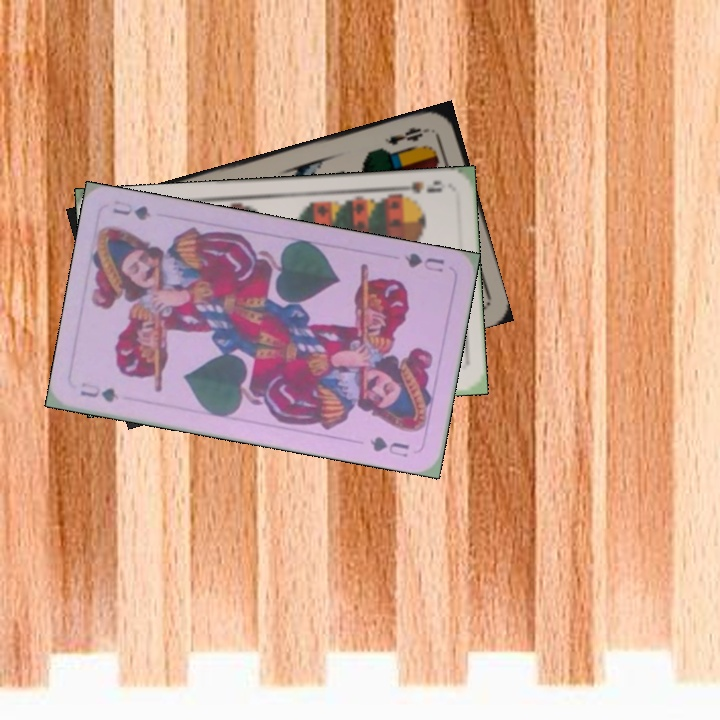EO: (380, 123, 432, 148)
GU: (76, 378, 122, 405), (400, 249, 447, 275)
S9: (390, 177, 445, 204)
